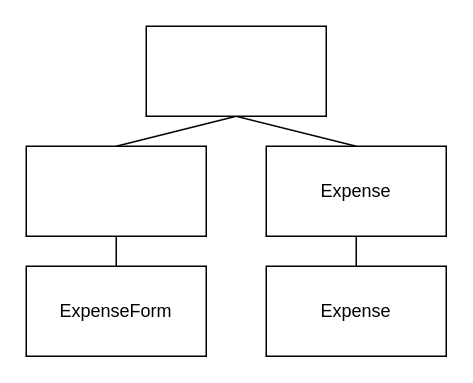
This 473x383 diagram has some shape labels left out. Here are the shapes that lost their labels. From the top down, the centre of each, then its label:
point 235,70: App
point 115,190: NewExpense
